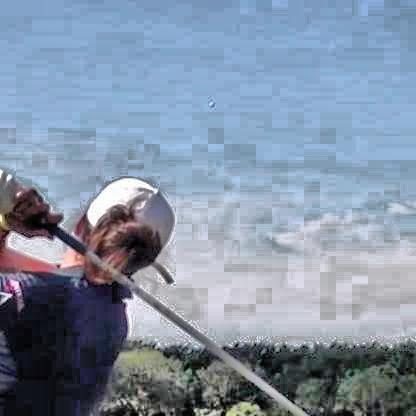golfball: (206, 99, 213, 105)
